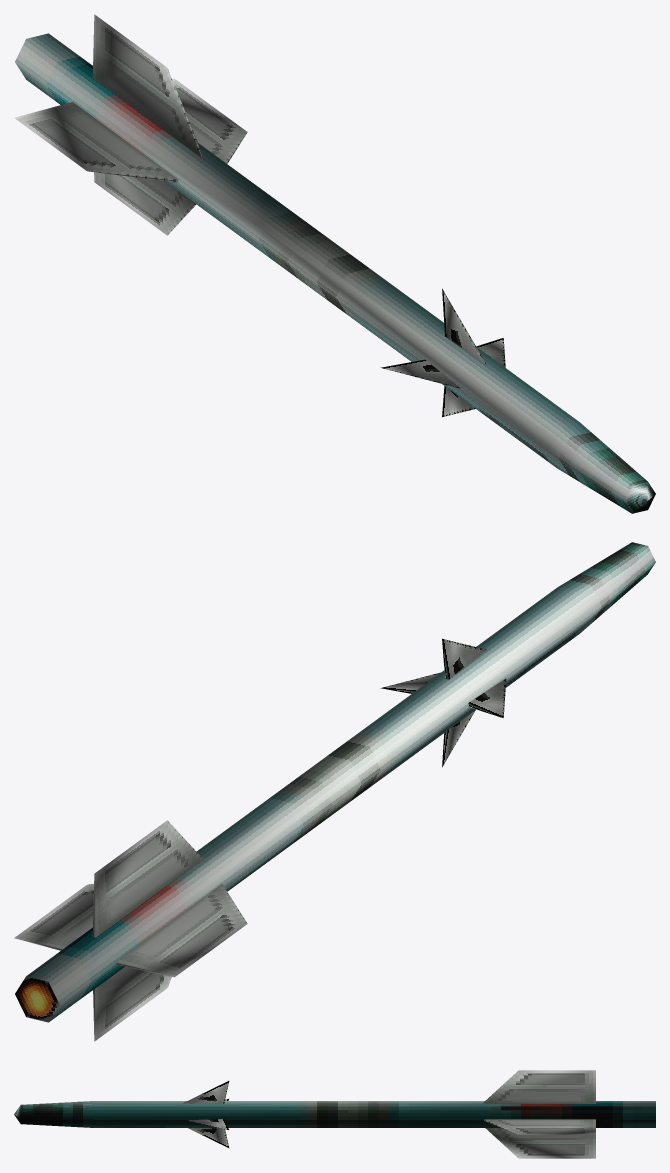
The model's file is mis01.glb.
3 renders of one model, top to bottom at view 1: azimuth 30°, elevation 25°; view 2: azimuth 150°, elevation 25°; view 3: azimuth 270°, elevation 25°, orthographic. The views are drawn at different scales.
Parts seen in each view (by area): view 1: mis01; view 2: mis01; view 3: mis01.
Boxes of the visible parts, left/top/right/bottom form: mis01: left=14, top=14, right=655, bottom=513; mis01: left=14, top=542, right=655, bottom=1041; mis01: left=14, top=1070, right=655, bottom=1158.
Bounding box in the file's own units: 1.73 × 1.73 × 11.35.
Materials: 1 (1 with a texture image).
